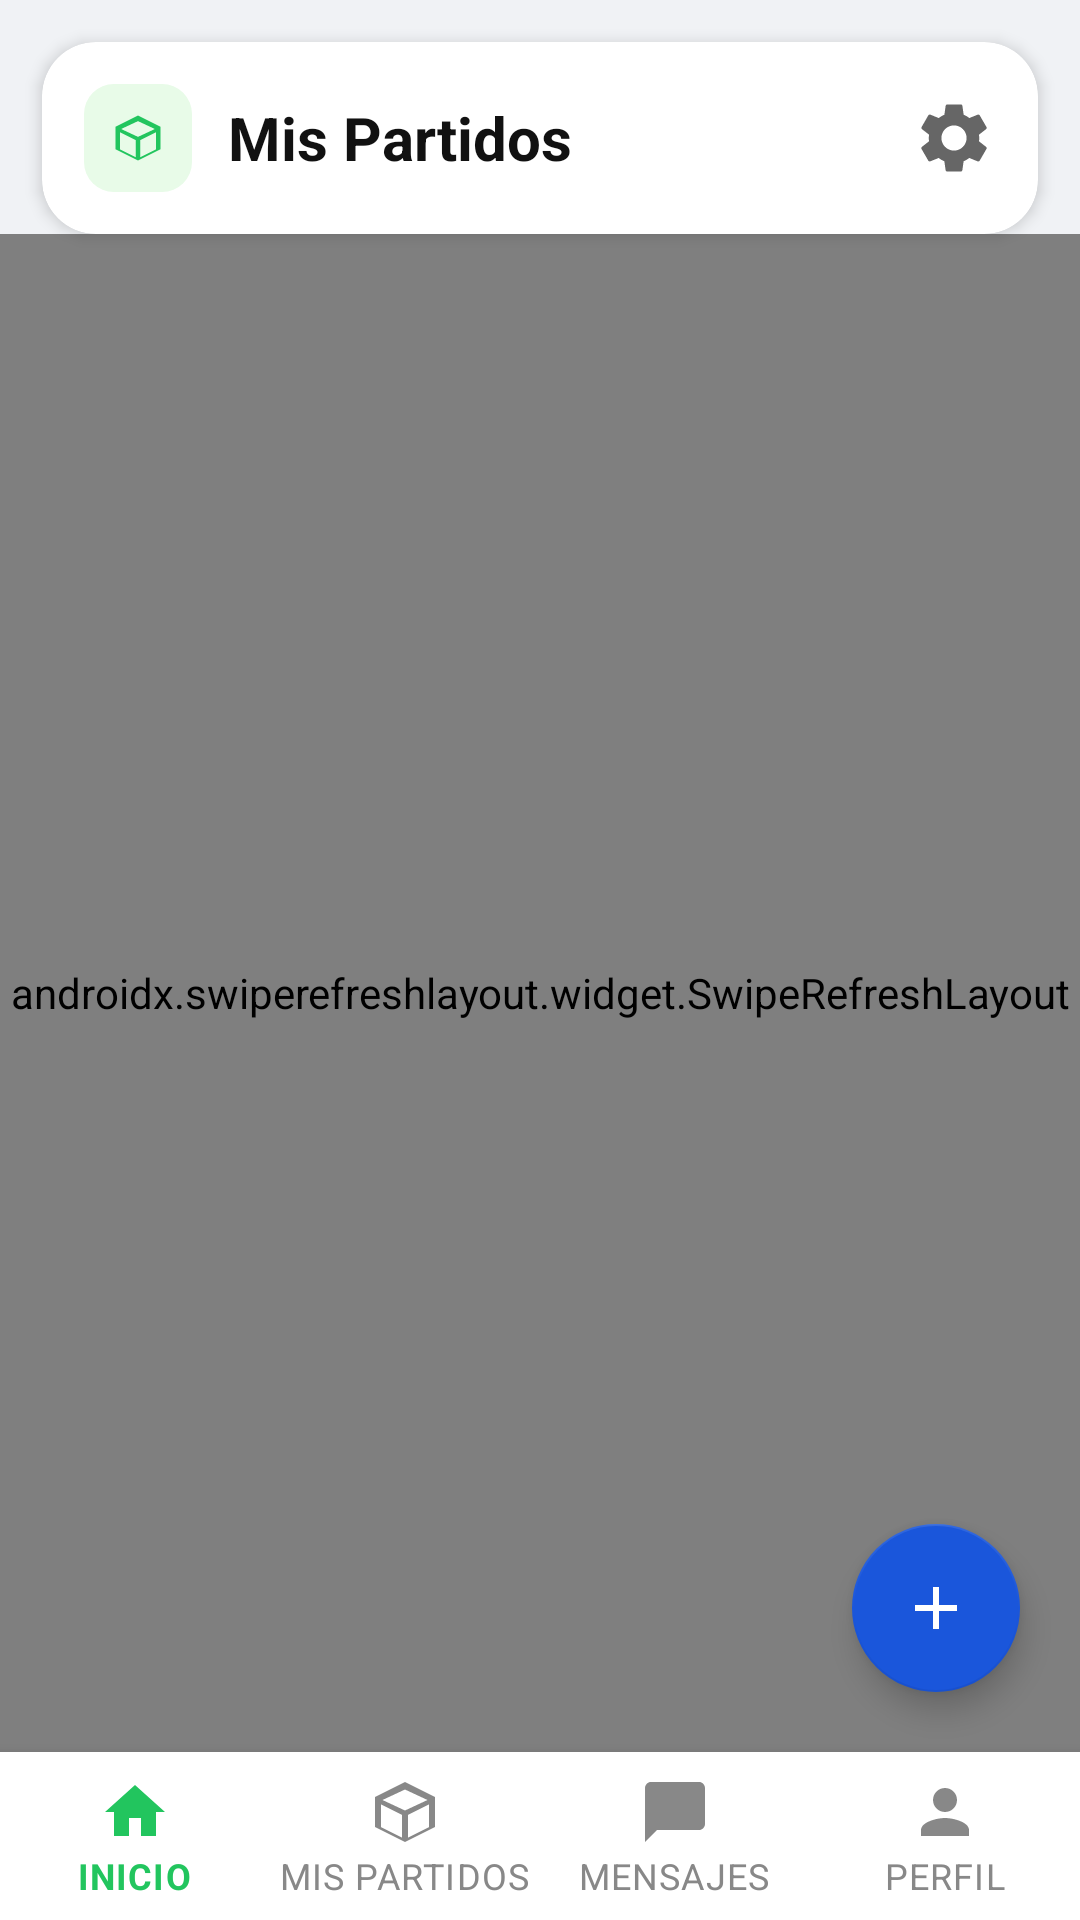

Where to tap for icons on this 1080*1920 app screen, as (x=x, y=y):
Configuración: (x=954, y=138)
Crear actividad: (x=936, y=1608)
